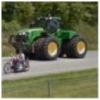tractors: (9, 14, 88, 60)
